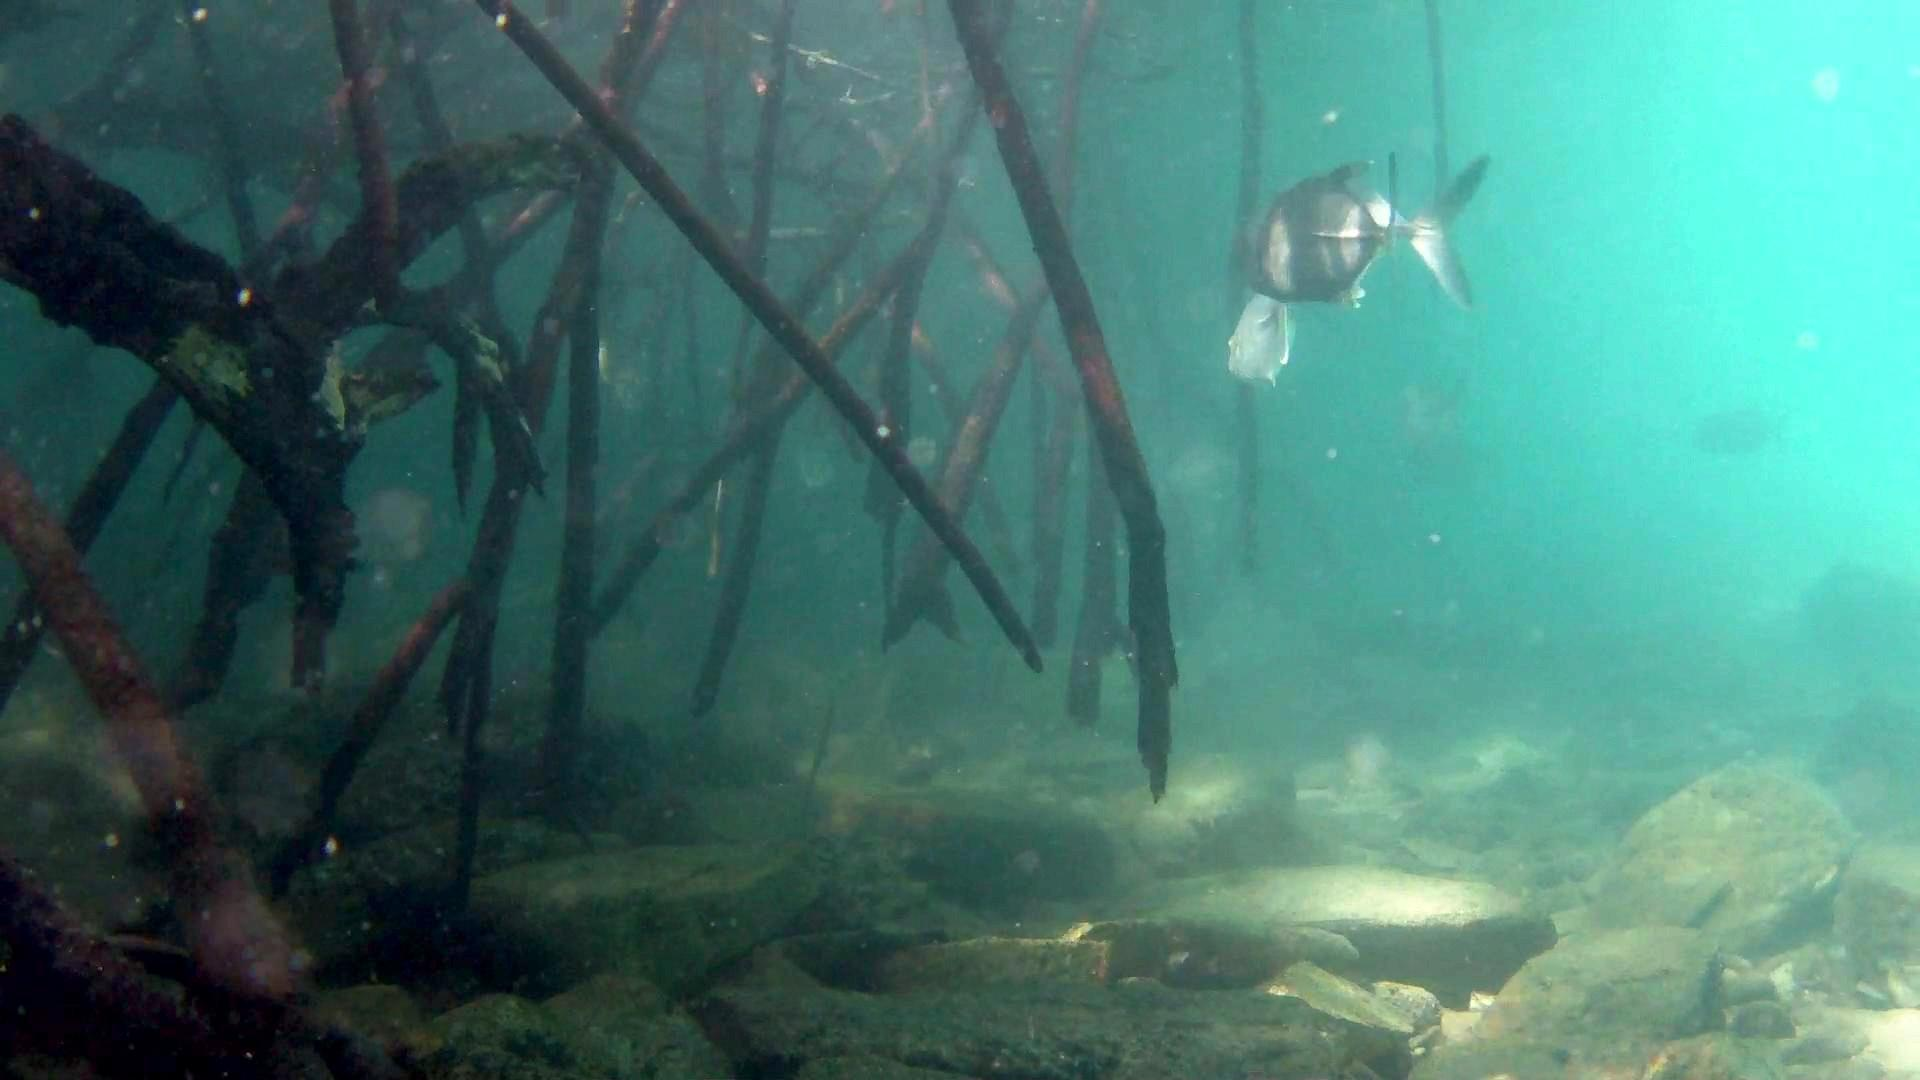caranx: (1226, 136, 1407, 320)
